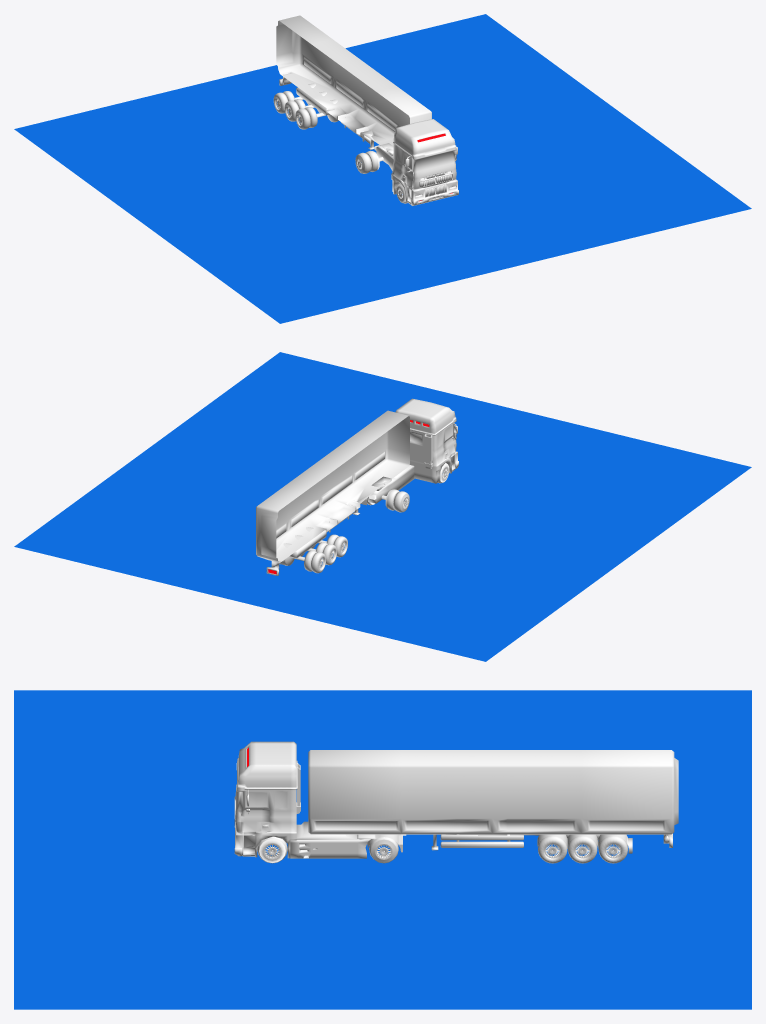
The model's file is Truck_DA2F.glb.
3 renders of one model, top to bottom at view 1: azimuth 30°, elevation 25°; view 2: azimuth 150°, elevation 25°; view 3: azimuth 270°, elevation 25°, orthographic. The views are drawn at different scales.
Visible parts, largest first — view 1: Plane, Cube, truck_daf, Cube.001; view 2: Plane, Cube, truck_daf, Cube.001, truck_daf.003; view 3: Plane, Cube, truck_daf, truck_daf.003, Cube.001, ban_depan, truck_daf.001.
Boxes of the visible parts, bbox=[...] form: Plane: bbox=[14, 14, 751, 323]; Cube: bbox=[276, 15, 431, 154]; truck_daf: bbox=[391, 119, 458, 205]; Cube.001: bbox=[273, 91, 338, 129]; Plane: bbox=[14, 352, 751, 661]; Cube: bbox=[256, 410, 409, 575]; truck_daf: bbox=[395, 398, 458, 483]; Cube.001: bbox=[284, 534, 347, 573]; truck_daf.003: bbox=[360, 465, 414, 505]; Plane: bbox=[14, 690, 751, 1009]; Cube: bbox=[308, 750, 678, 853]; truck_daf: bbox=[234, 741, 297, 858]; truck_daf.003: bbox=[290, 821, 406, 858]; Cube.001: bbox=[538, 836, 627, 863]; ban_depan: bbox=[257, 836, 287, 863]; truck_daf.001: bbox=[369, 837, 398, 863].
Bounding box in the file's own units: 33.48 × 4.9 × 32.71.
